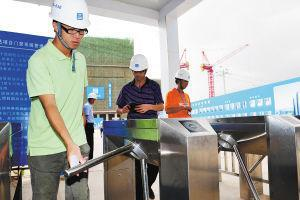helmet: (50, 1, 94, 54), (129, 51, 150, 83), (175, 65, 191, 90), (87, 91, 97, 106)
